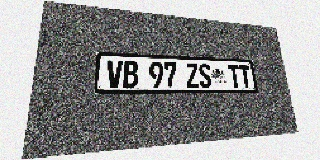7: (163, 62, 178, 88)
9: (149, 62, 164, 88)
B: (123, 61, 138, 88)
S: (198, 64, 212, 88)
T: (228, 65, 241, 88), (239, 65, 252, 88)
V: (106, 60, 123, 88)
Z: (186, 63, 200, 88)
